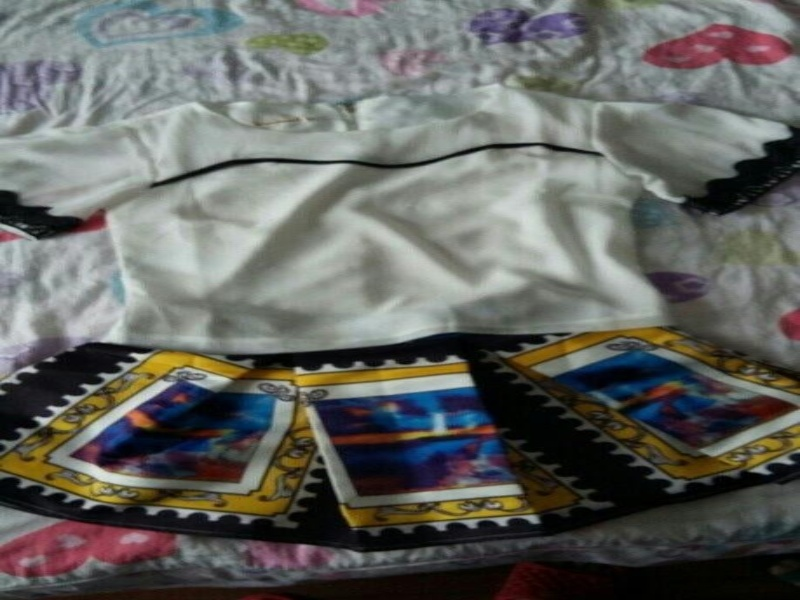short_sleeved_shirt: (2, 82, 795, 357)
skirt: (2, 315, 795, 552)
